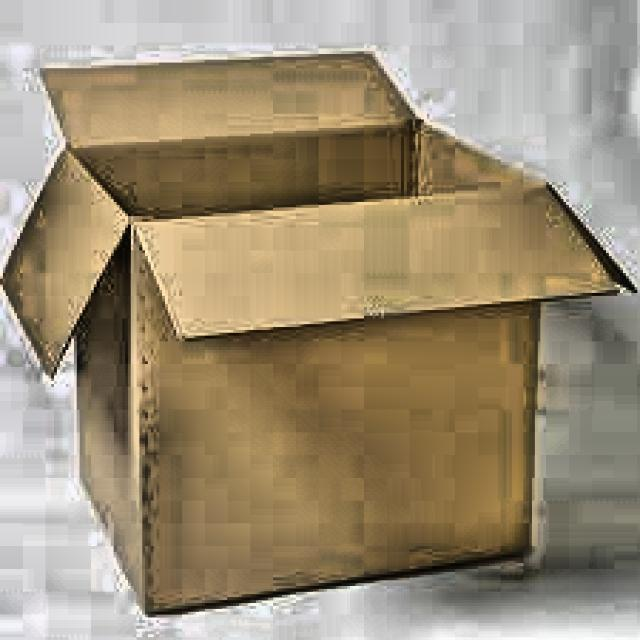Cardbox: (0, 26, 640, 624)
